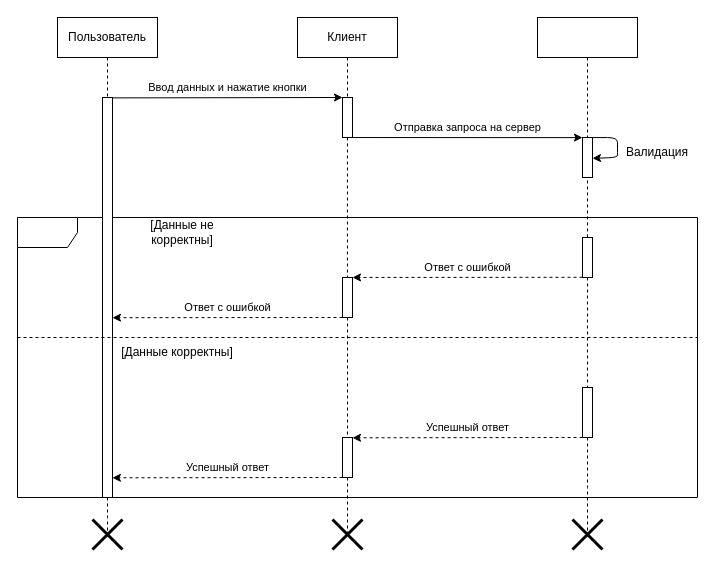
Image size: 716x568. Some labels were removed from this diagram. Each missing label, with the box of its shape:
alt: (16, 216, 698, 498)
Сервер: (536, 16, 638, 138)
